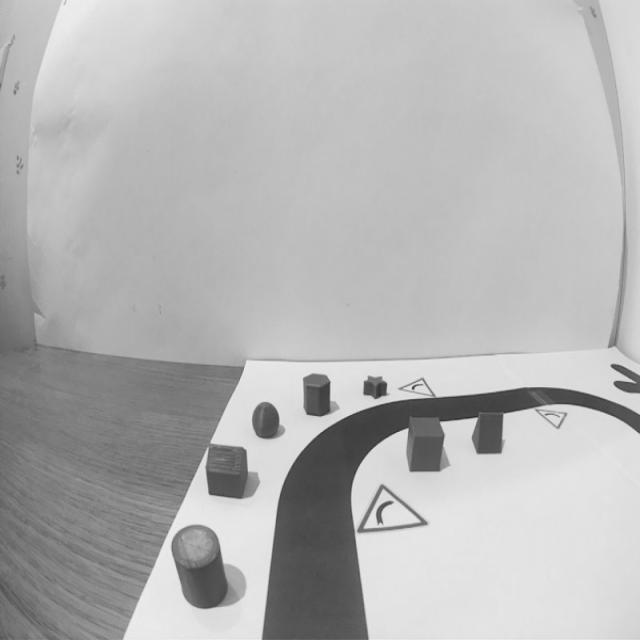ball: (250, 399, 282, 443)
cube: (404, 412, 448, 478)
cylinder: (170, 520, 231, 614)
hexagon: (300, 369, 334, 418)
home: (204, 438, 251, 502)
laneRightTurn: (267, 412, 368, 530)
lineStraight: (257, 504, 375, 639)
star: (360, 370, 390, 403)
triangle: (469, 407, 506, 460)
